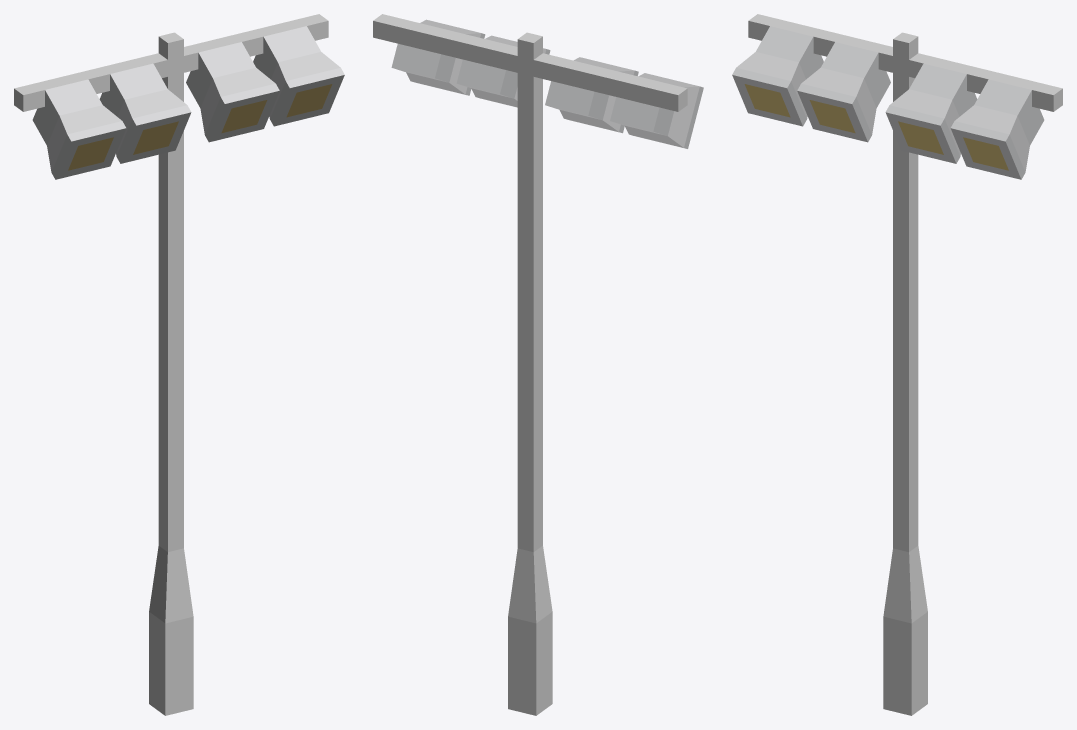
Rendered from flutlicht.glb.
3 views of the same model, side by side, from view 1: azimuth 30°, elevation 25°; view 2: azimuth 150°, elevation 25°; view 3: azimuth 330°, elevation 25° (orthographic).
Visible parts, largest first — view 1: rest; view 2: rest; view 3: rest.
Part boxes in pixels (x1=…): rest: x1=14, y1=14, x2=344, y2=715; rest: x1=373, y1=14, x2=703, y2=715; rest: x1=732, y1=14, x2=1062, y2=715.
Bounding box in the file's own units: 0.38 × 0.7957 × 0.0971.
